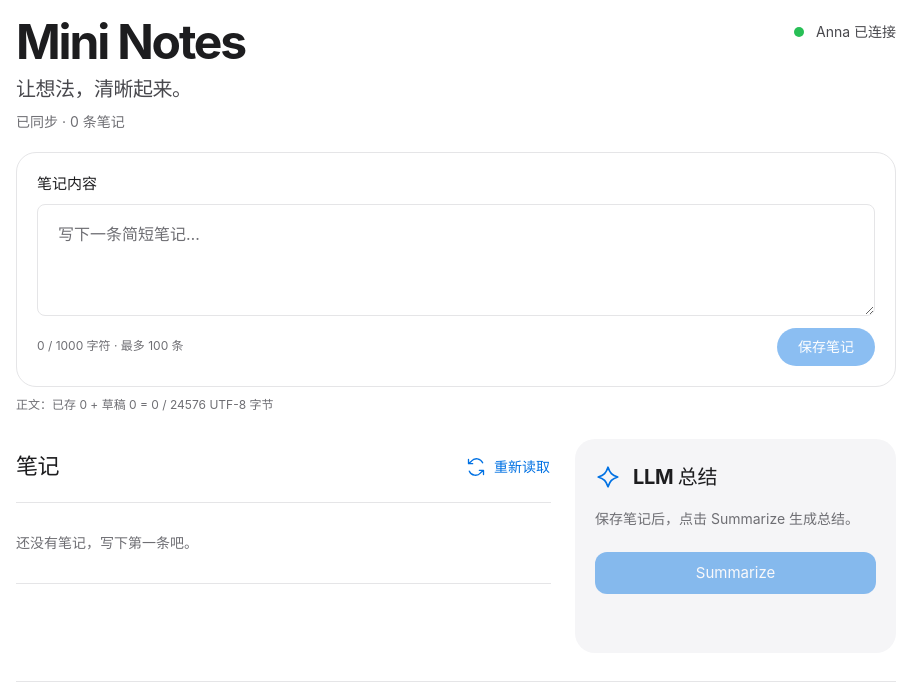
Scenario: Host session loss in the app › keeps a conflicting handoff visible until the user clears current input and explicitly retrieves it
Expected: the text "Anna 已连接" is shown, [794, 16, 896, 42]
Type "new typing" into the text box.
click(456, 260); type("new typing")  # box [37, 204, 875, 316]
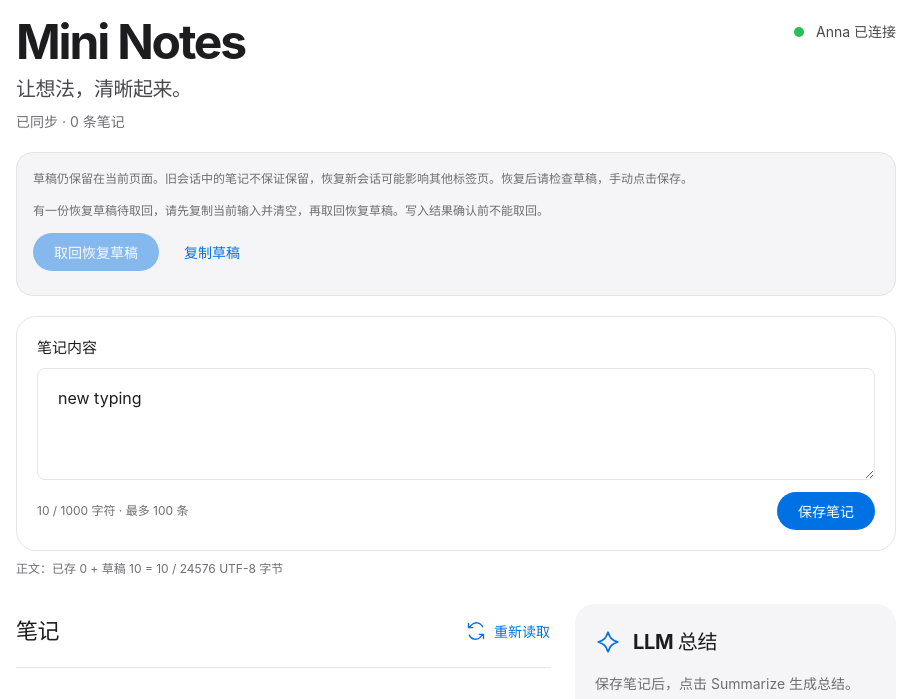
Result: the text "有一份恢复草稿待取回，请先复制当前输入并清空，再取回恢复草稿。写入结果确认前不能取回。" is shown at [33, 203, 549, 218]
Result: the button "取回恢复草稿" is disabled at [33, 233, 159, 271]
Result: the button "复制草稿" is enabled at [171, 234, 253, 271]
Click the button "重新读取".
click(504, 631)  # box [457, 613, 551, 649]
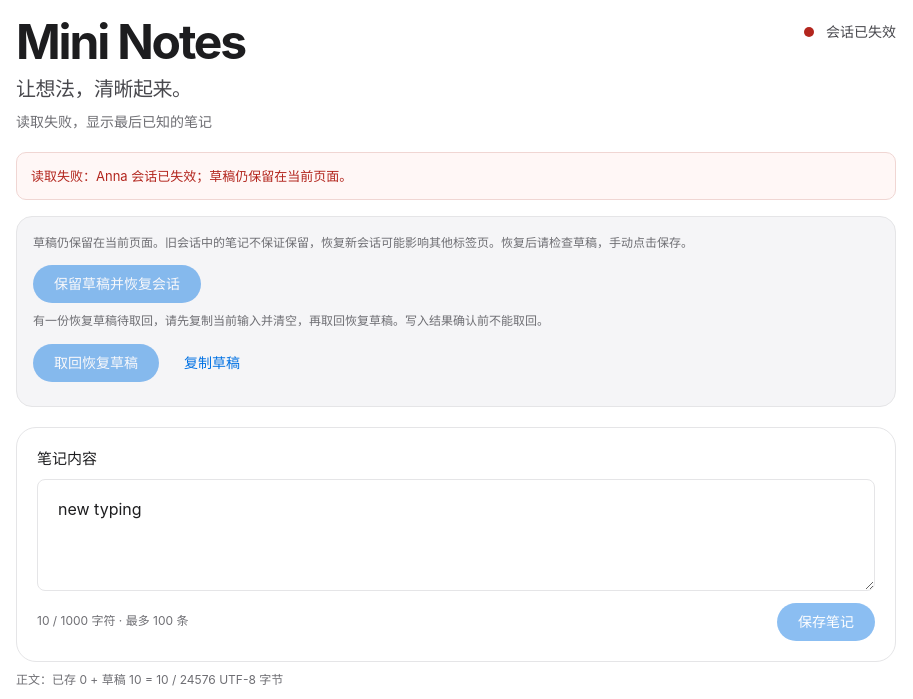
Result: the text "会话已失效" is shown at [804, 16, 896, 42]
Result: the button "保留草稿并恢复会话" is disabled at [33, 265, 201, 303]
Clear the text box at (456, 534), box [37, 478, 875, 590]
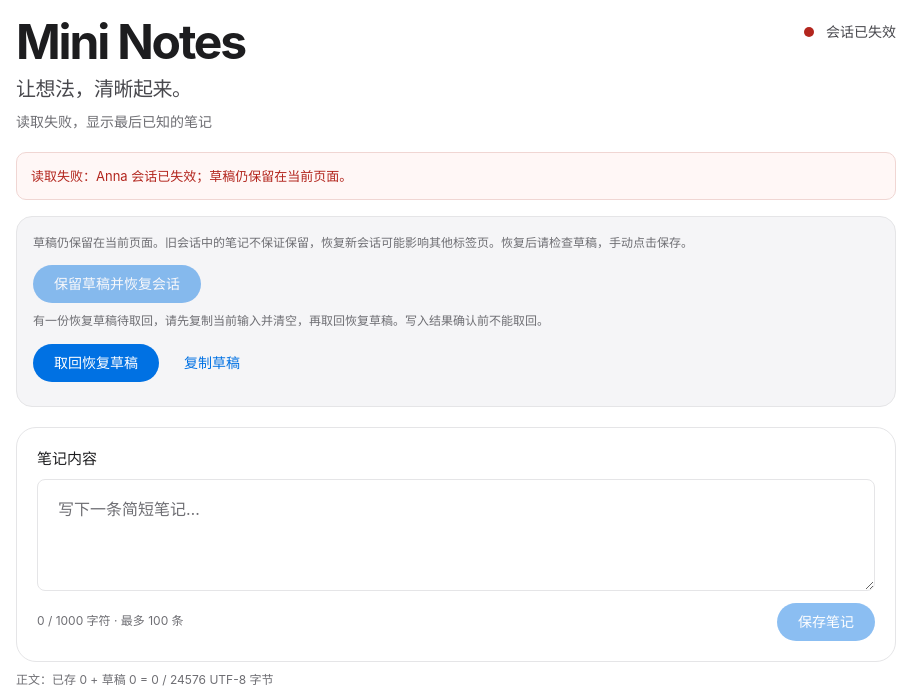
Click the button "取回恢复草稿".
click(96, 362)  # box [33, 344, 159, 382]
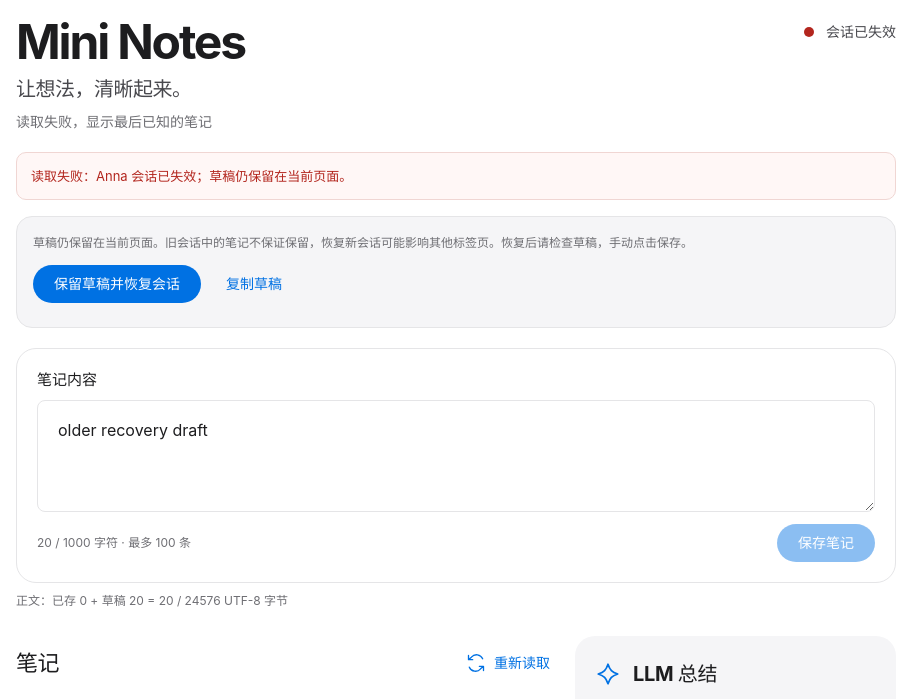
Result: the text box holds "older recovery draft" at [37, 400, 875, 512]
Result: the text "有一份恢复草稿待取回" is gone
